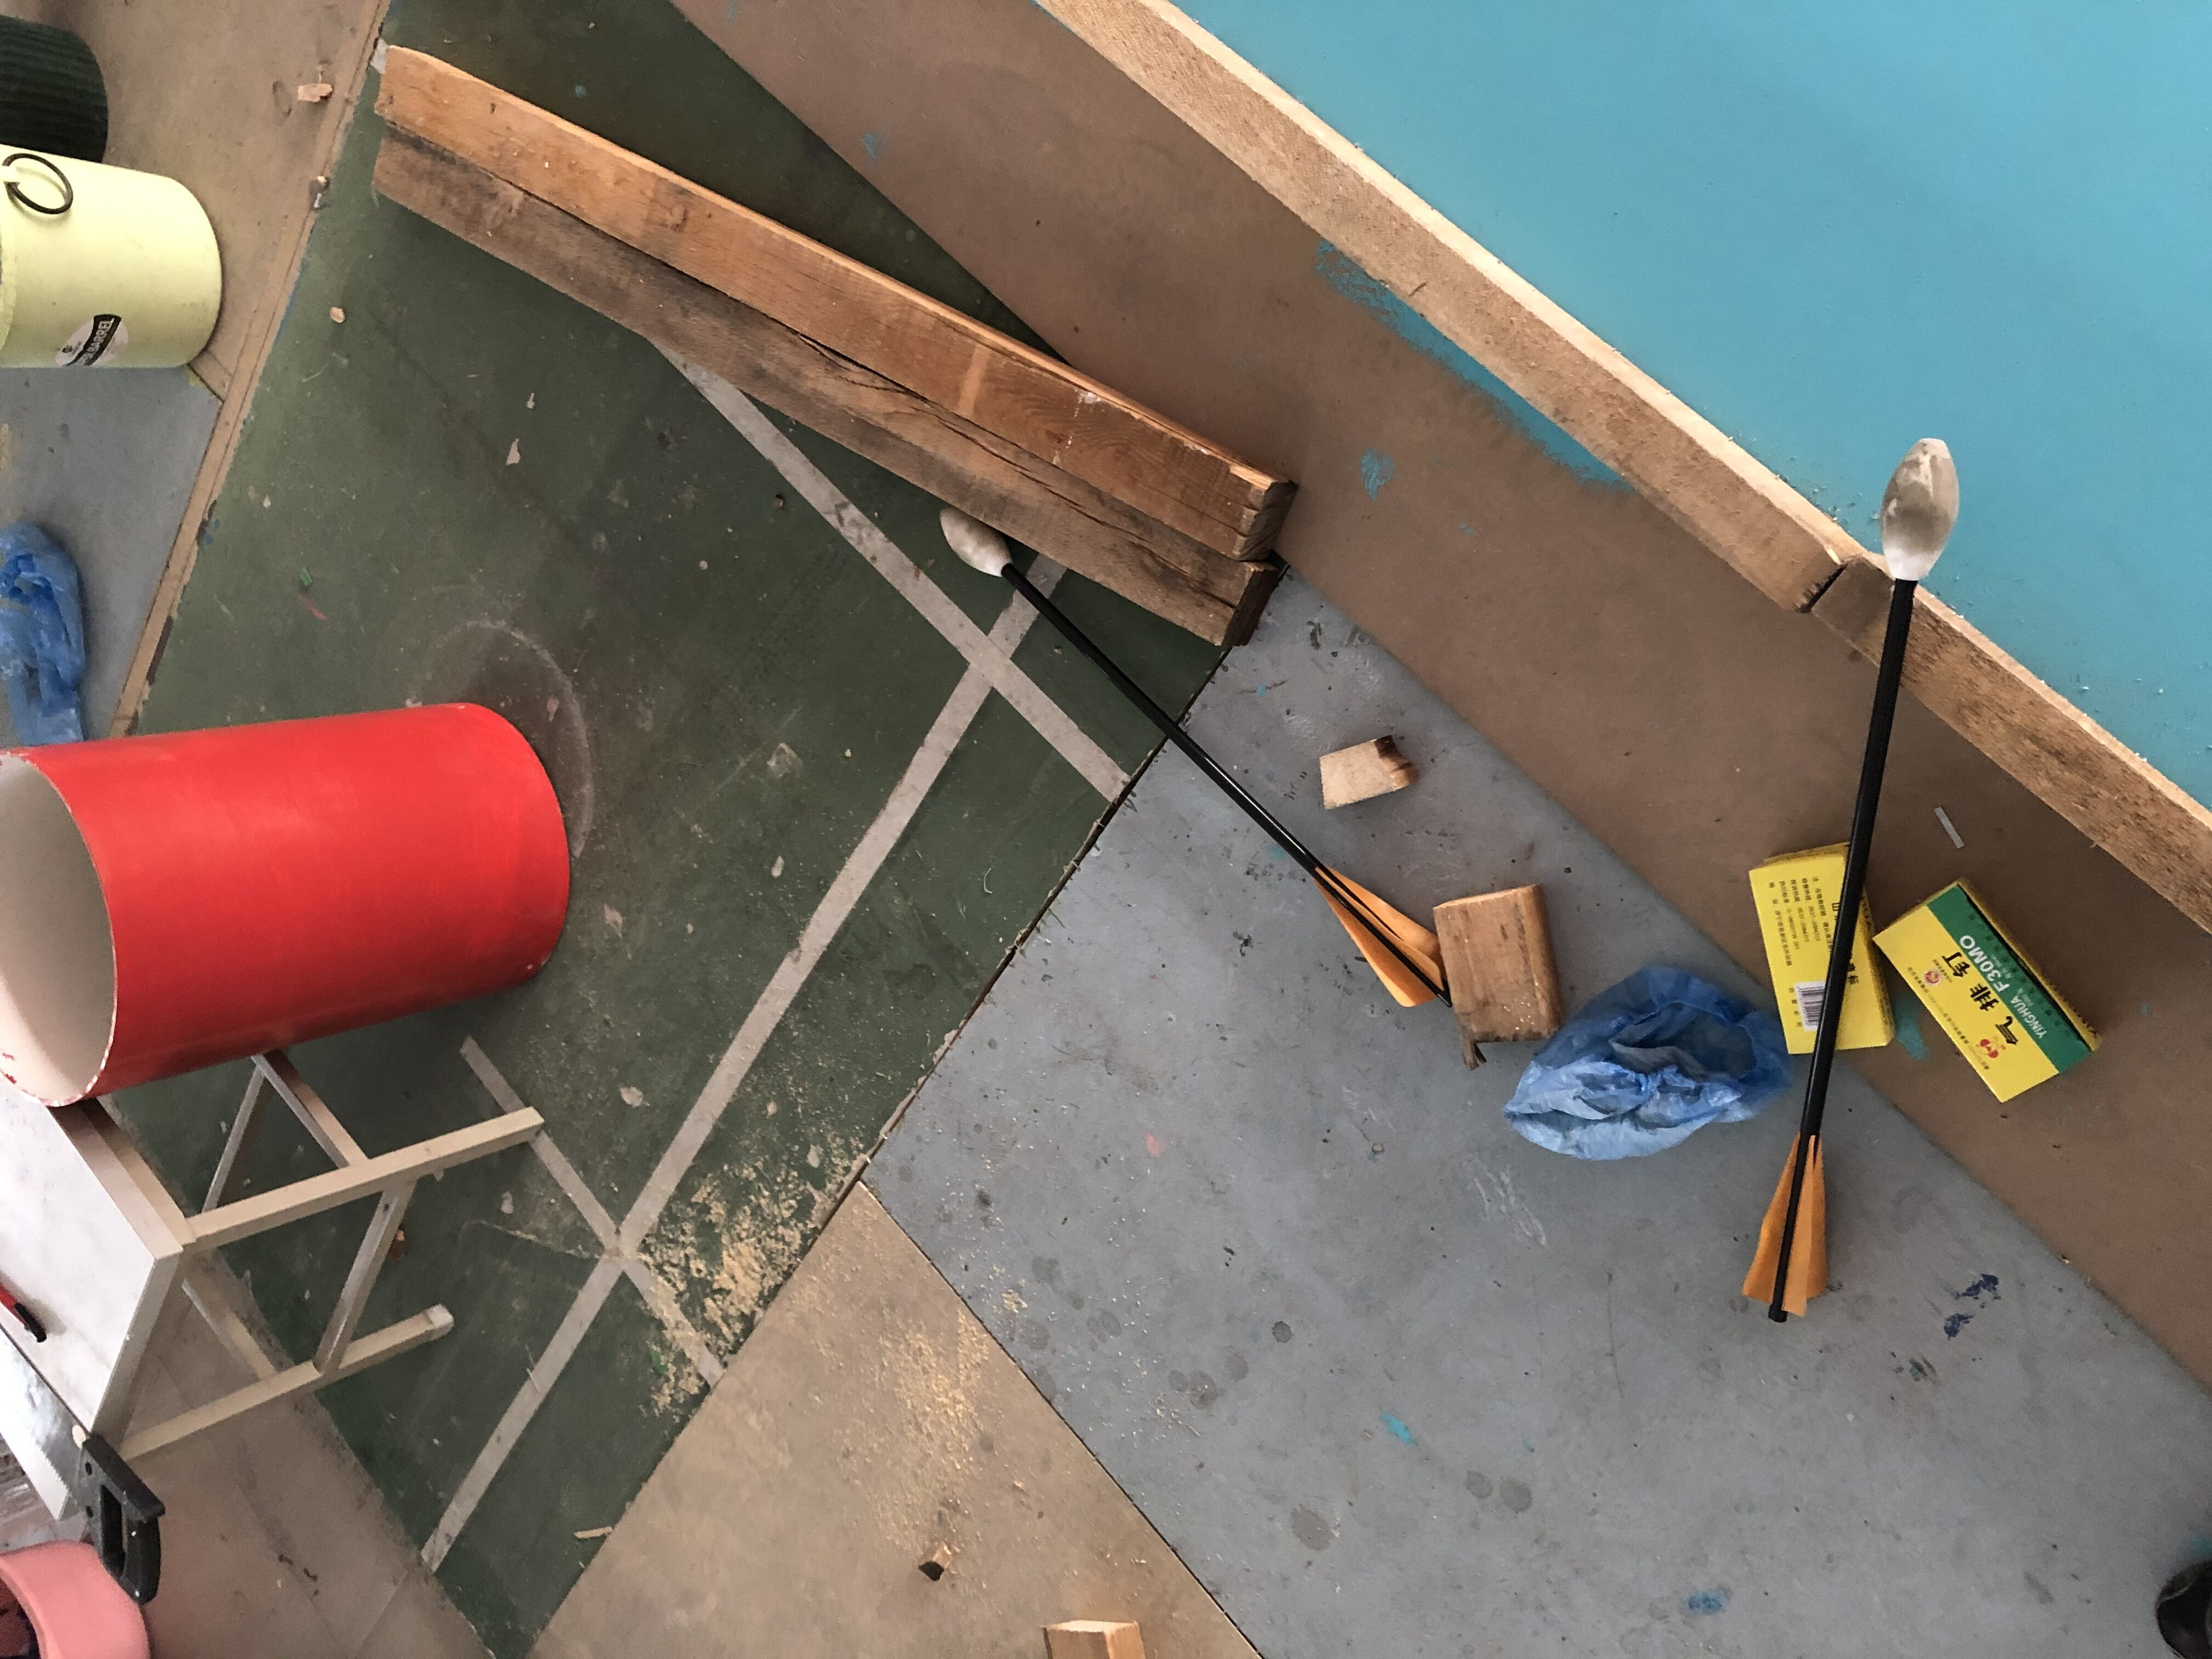arrow: (934, 509, 1461, 1009), (1738, 437, 1959, 1328)
arrowFront: (1878, 436, 1963, 587), (932, 502, 1015, 577)
